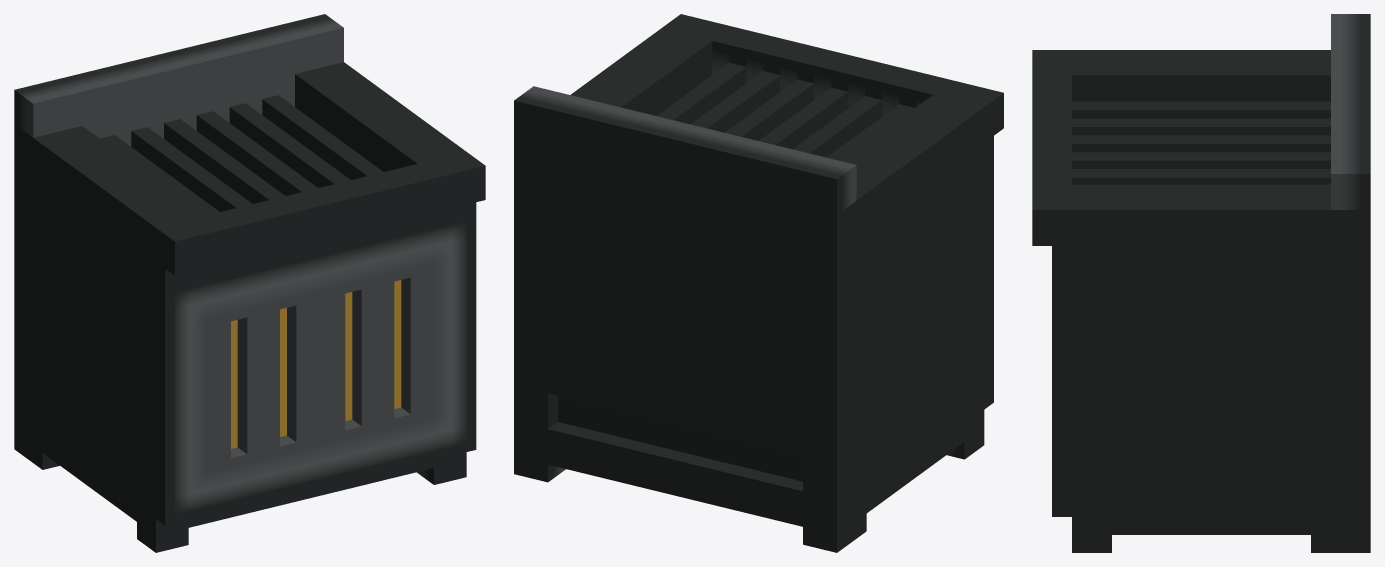
Rendered from Kitchen_Stove_00.fbx.
3 renders of one model, left to right at view 1: azimuth 30°, elevation 25°; view 2: azimuth 150°, elevation 25°; view 3: azimuth 270°, elevation 25°, orthographic. The views are drawn at different scales.
Visible parts, largest first — view 1: Kitchen_Stove_00; view 2: Kitchen_Stove_00; view 3: Kitchen_Stove_00.
Boxes of the visible parts, left/top/right/bottom form: Kitchen_Stove_00: left=14, top=14, right=485, bottom=552; Kitchen_Stove_00: left=514, top=14, right=1003, bottom=552; Kitchen_Stove_00: left=1032, top=14, right=1370, bottom=552.
Bounding box in the file's own units: 95 × 105 × 85.
